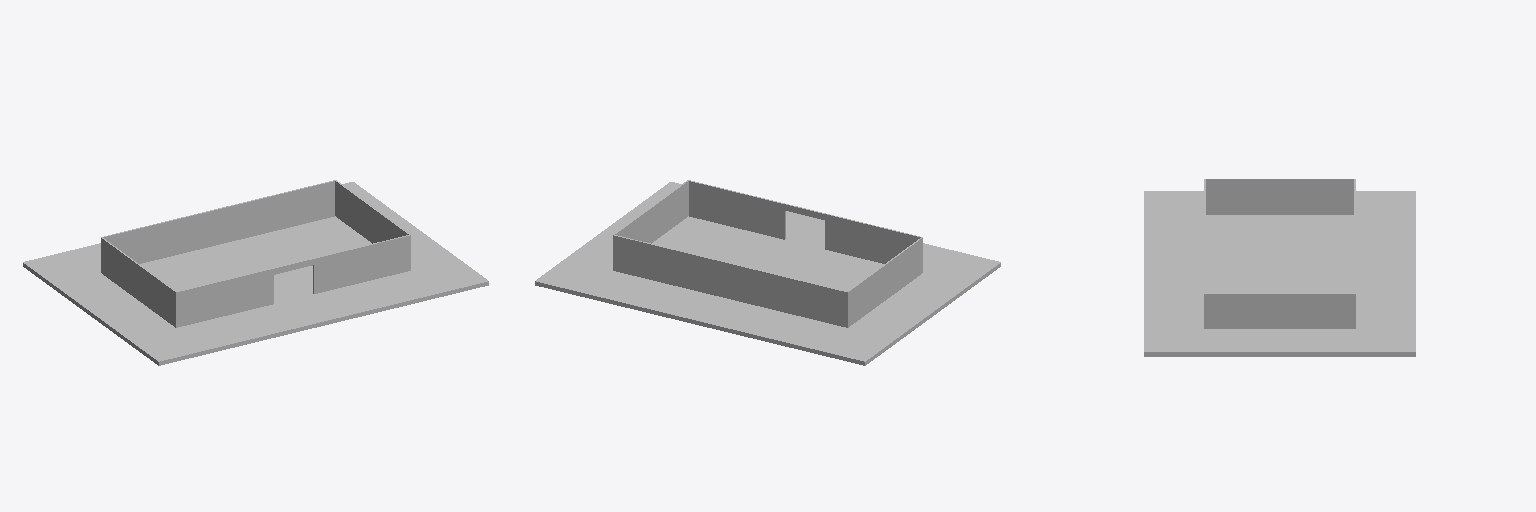
Rendered from Building.obj.
3 views of the same model, side by side, from view 1: azimuth 30°, elevation 25°; view 2: azimuth 150°, elevation 25°; view 3: azimuth 270°, elevation 25° (orthographic).
Visible parts, largest first — view 1: Cube.002_Cube.007; view 2: Cube.002_Cube.007; view 3: Cube.002_Cube.007.
Part boxes in pixels (left/top/right/bottom): Cube.002_Cube.007: left=23, top=180, right=488, bottom=365; Cube.002_Cube.007: left=535, top=180, right=1000, bottom=365; Cube.002_Cube.007: left=1144, top=179, right=1415, bottom=356.
Size of the model in its own units: 94.81 by 10.86 by 67.63.